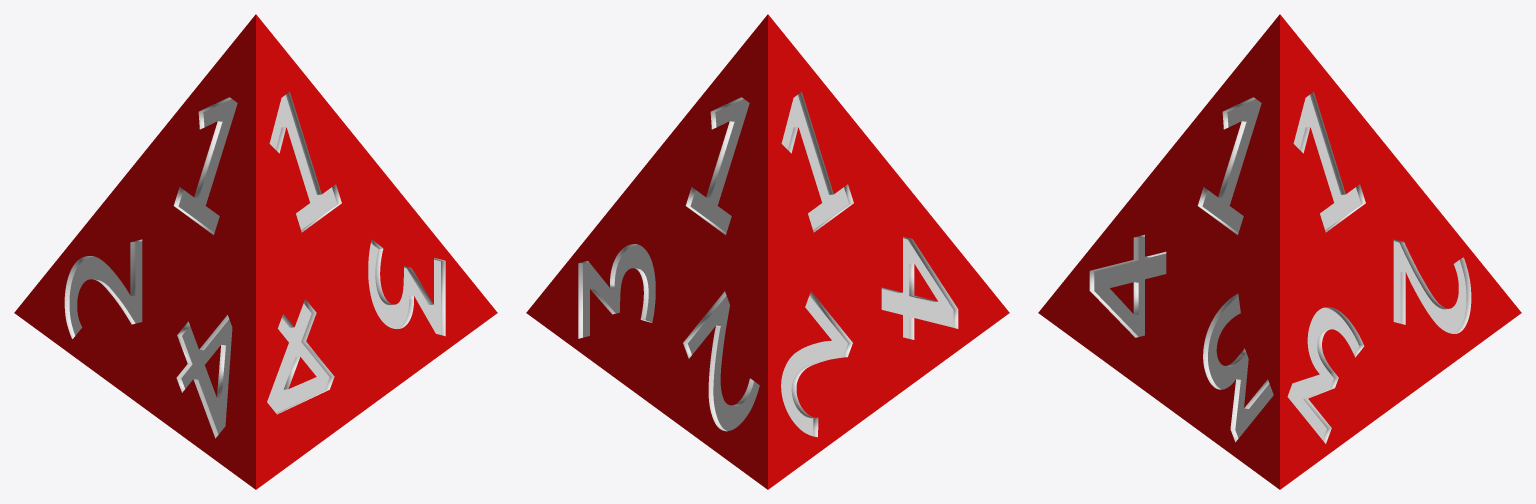
3 renders of one model, left to right at view 1: azimuth 30°, elevation 25°; view 2: azimuth 150°, elevation 25°; view 3: azimuth 270°, elevation 25°, orthographic.
Visible parts, largest first — view 1: d4.001; view 2: d4.001; view 3: d4.001.
Boxes of the visible parts, box(x1,y1,x2,y2) form: d4.001: box(14, 14, 497, 489); d4.001: box(526, 14, 1009, 489); d4.001: box(1038, 14, 1521, 489).
Bounding box in the file's own units: 1.41 × 1.33 × 1.63.
